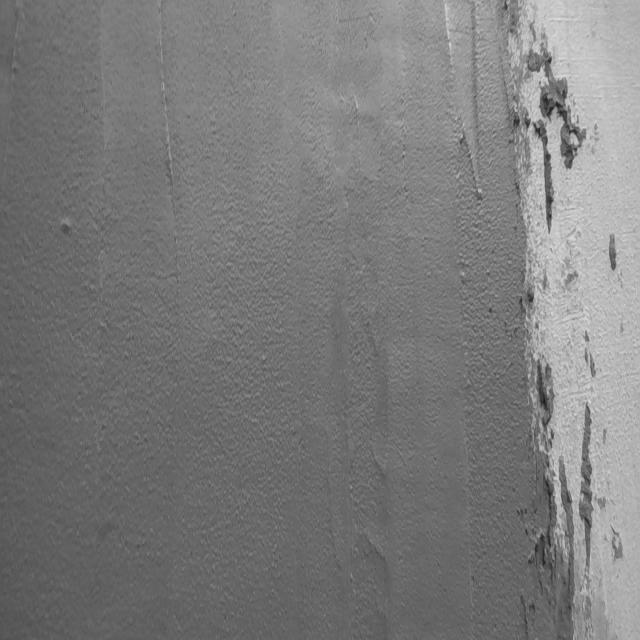trowels marks: (154, 14, 180, 220)
